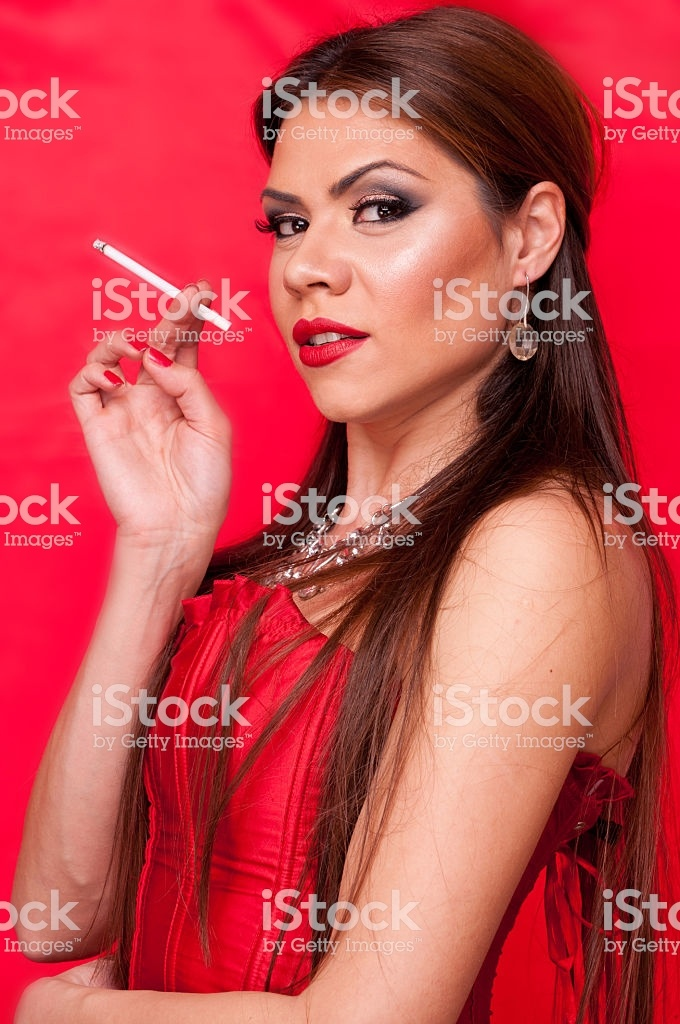sigaretta: (81, 235, 234, 336)
